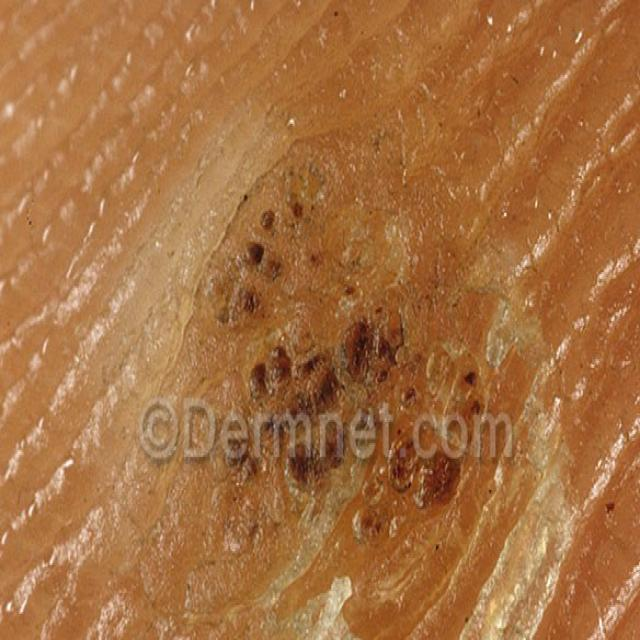Warts: (204, 169, 502, 610)
